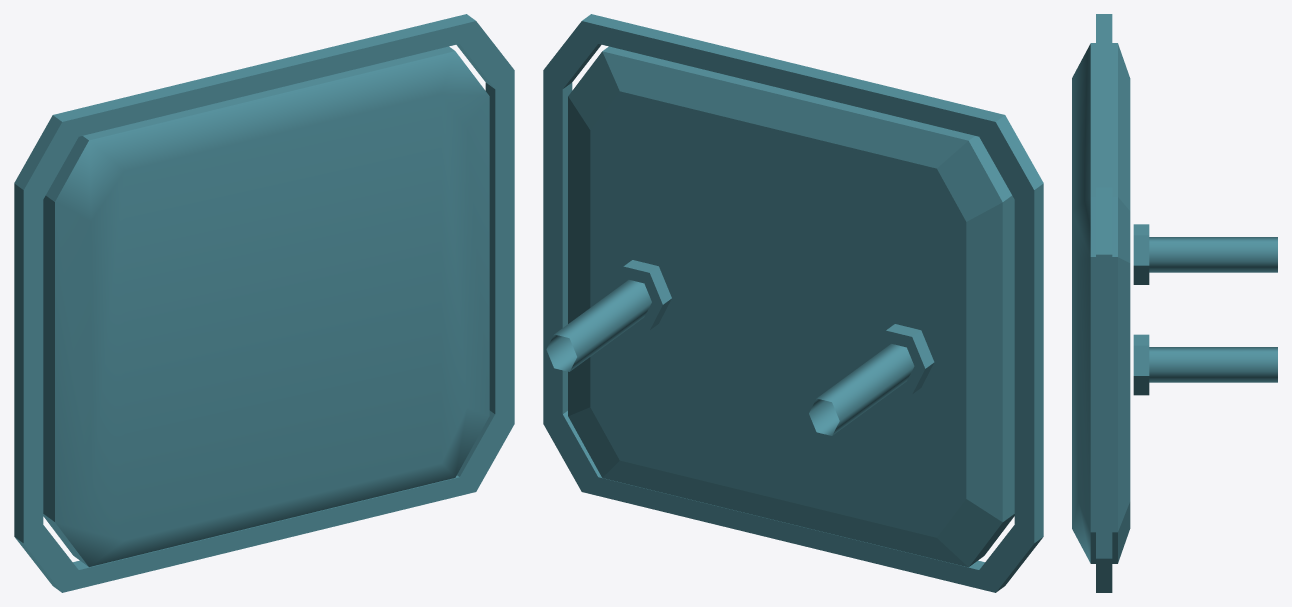
Rendered from Solar Panel 2.fbx.
3 renders of one model, left to right at view 1: azimuth 30°, elevation 25°; view 2: azimuth 150°, elevation 25°; view 3: azimuth 270°, elevation 25°, orthographic. The views are drawn at different scales.
Visible parts, largest first — view 1: SolarPanel_02; view 2: SolarPanel_02; view 3: SolarPanel_02.
Part boxes in pixels (x1,y1,x2,y2): SolarPanel_02: (14, 14, 514, 592); SolarPanel_02: (543, 14, 1043, 592); SolarPanel_02: (1072, 14, 1277, 592).
Size of the model in its own units: 11.03 by 10.11 by 4.66.
